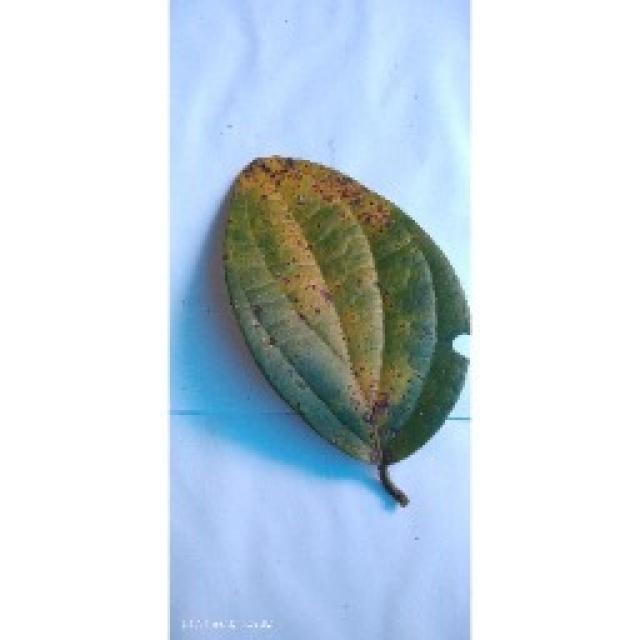slow-decline: (197, 140, 475, 508)
